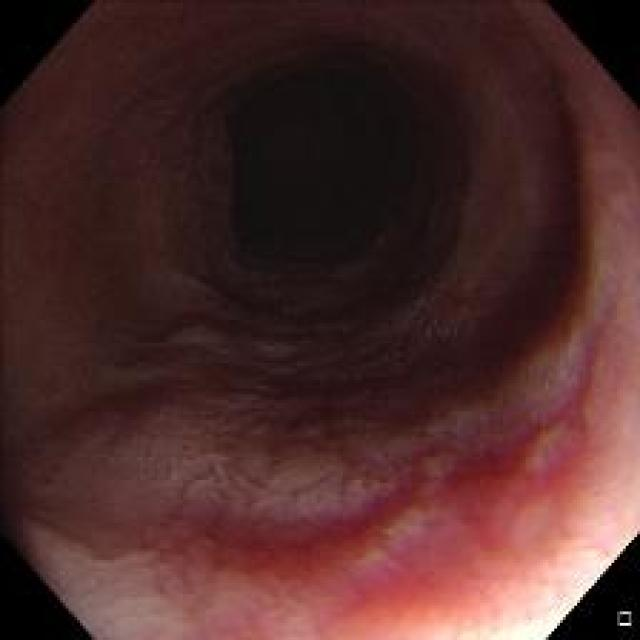blur: (252, 481, 588, 630)
contrast: (209, 66, 514, 378)
saturation: (494, 601, 571, 636)
